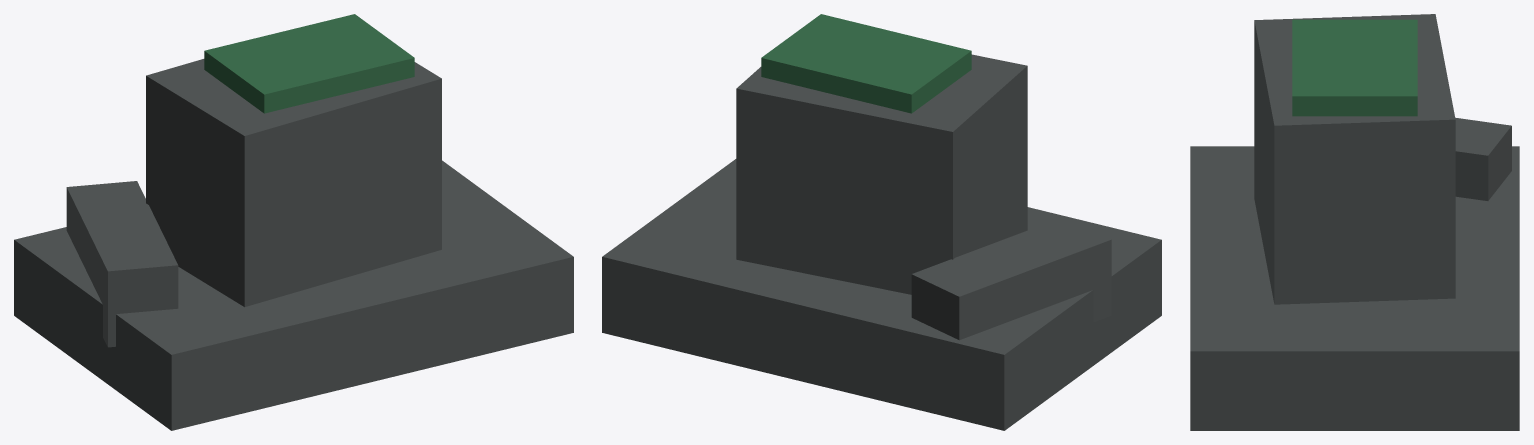
Rendered from df_ruined_shrine_a.glb.
3 views of the same model, side by side, from view 1: azimuth 30°, elevation 25°; view 2: azimuth 150°, elevation 25°; view 3: azimuth 270°, elevation 25° (orthographic). The views are drawn at different scales.
Parts seen in each view (by area): view 1: base, plinth, moss, fallen; view 2: base, plinth, fallen, moss; view 3: base, plinth, moss, fallen.
Boxes of the visible parts, <box> form: base: <box>14,160,573,430</box>; plinth: <box>146,59,441,307</box>; moss: <box>204,14,414,113</box>; fallen: <box>66,181,178,347</box>; base: <box>602,159,1161,430</box>; plinth: <box>736,54,1027,294</box>; fallen: <box>911,217,1111,340</box>; moss: <box>761,14,971,113</box>; base: <box>1190,146,1519,430</box>; plinth: <box>1254,14,1455,304</box>; moss: <box>1292,19,1417,116</box>; fallen: <box>1455,117,1511,200</box>.
Bounding box in the file's own units: 1.58 × 0.98 × 1.05.
